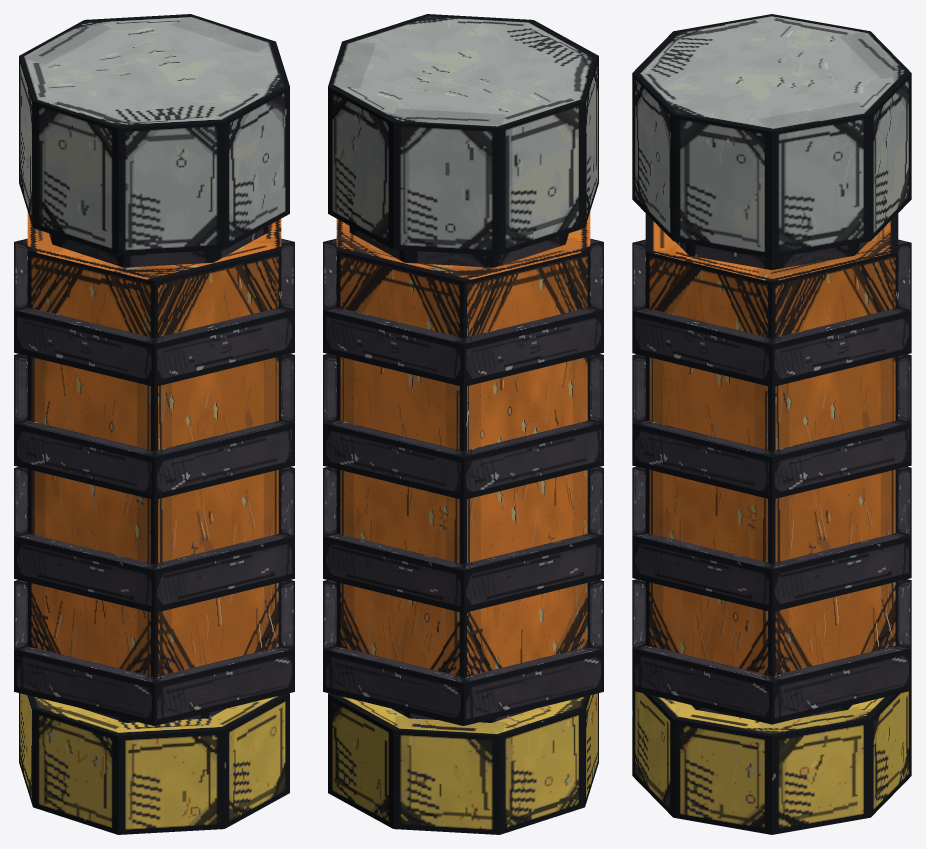
File: grip_torgue.glb
The picture shows the model from 3 angles, left to right: view 1: azimuth 30°, elevation 25°; view 2: azimuth 150°, elevation 25°; view 3: azimuth 270°, elevation 25°; orthographic projection.
Parts seen in each view (by area): view 1: grip_torgue; view 2: grip_torgue; view 3: grip_torgue.
Part boxes in pixels (x1,y1,x2,y2): grip_torgue: [14, 14, 294, 834]; grip_torgue: [323, 14, 603, 834]; grip_torgue: [632, 14, 911, 834].
Bounding box in the file's own units: 0.208 × 0.5 × 0.1801.
1 material, 1 textured.
